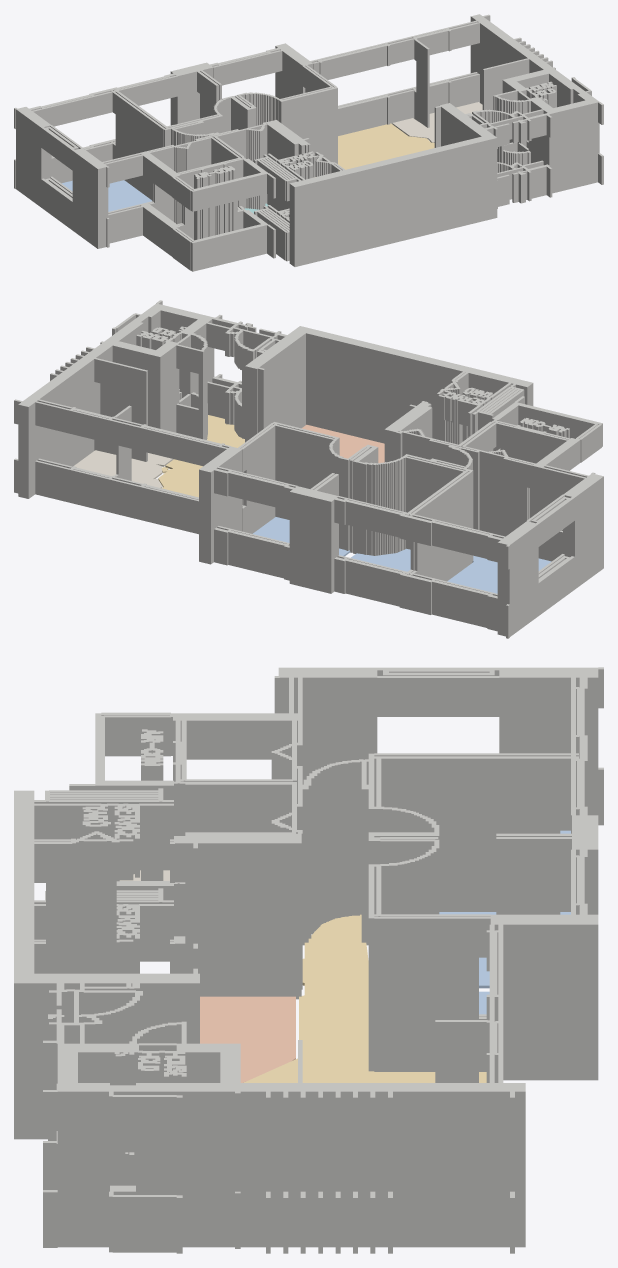
The picture shows the model from 3 angles, top to bottom: view 1: azimuth 30°, elevation 25°; view 2: azimuth 150°, elevation 25°; view 3: azimuth 270°, elevation 25°; orthographic projection. The views are drawn at different scales.
Parts seen in each view (by area): view 1: walls, room:living:4, room:bedroom:0, room:other:3; view 2: walls, room:living:4, room:other:3, room:bedroom:0, room:kitchen:7, room:bedroom:1, room:bedroom:2; view 3: walls, room:living:4, room:kitchen:7.
Part boxes in pixels (left/top/right/bottom): walls: left=14, top=14, right=603, bottom=271; room:living:4: left=315, top=123, right=434, bottom=177; room:bedroom:0: left=62, top=180, right=151, bottom=211; room:other:3: left=392, top=102, right=482, bottom=142; walls: left=14, top=300, right=603, bottom=638; room:living:4: left=158, top=415, right=244, bottom=497; room:other:3: left=74, top=450, right=173, bottom=488; room:bedroom:0: left=447, top=555, right=551, bottom=593; room:kitchen:7: left=301, top=424, right=384, bottom=462; room:bedroom:1: left=351, top=548, right=410, bottom=571; room:bedroom:2: left=253, top=517, right=350, bottom=556; walls: left=14, top=667, right=603, bottom=1253; room:living:4: left=243, top=914, right=486, bottom=1082; room:kitchen:7: left=200, top=996, right=295, bottom=1082.
Bounding box in the file's own units: 16.57 × 2.8 × 9.6.
